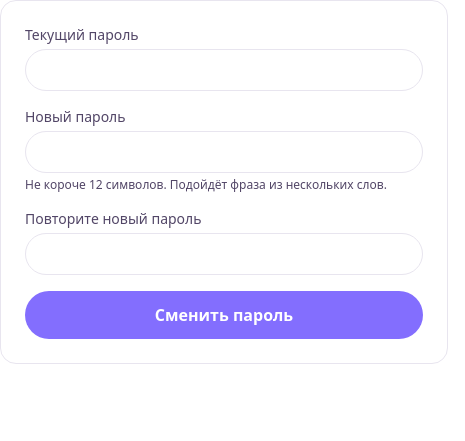
Test: <ChangePasswordForm> › пустой текущий: ошибка у формы, запрос не уходит
The width and height of the screenshot is (465, 441).
In the password field labelled "Новый пароль": (224, 152) [25,131,423,173], type "новый-надёжный-пароль"
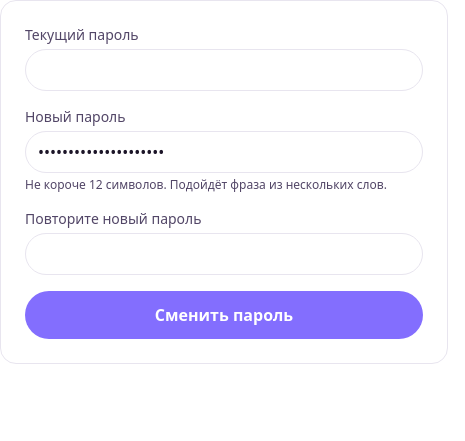
In the password field labelled "Повторите новый пароль": (224, 254) [25,233,423,275], type "новый-надёжный-пароль"
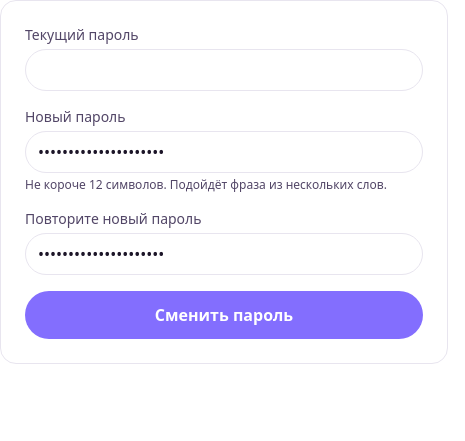
Click the button "Сменить пароль": (224, 315) [25,291,423,339]
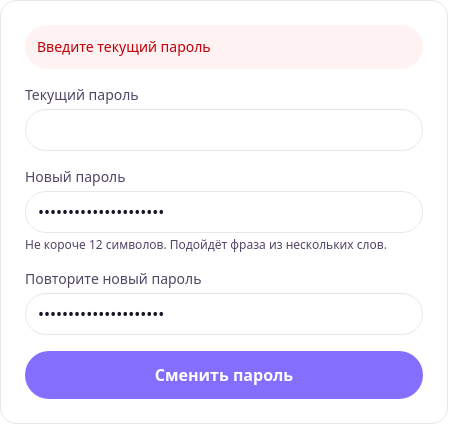
Check: the message shows "текущий пароль", box [37,37,211,56]
